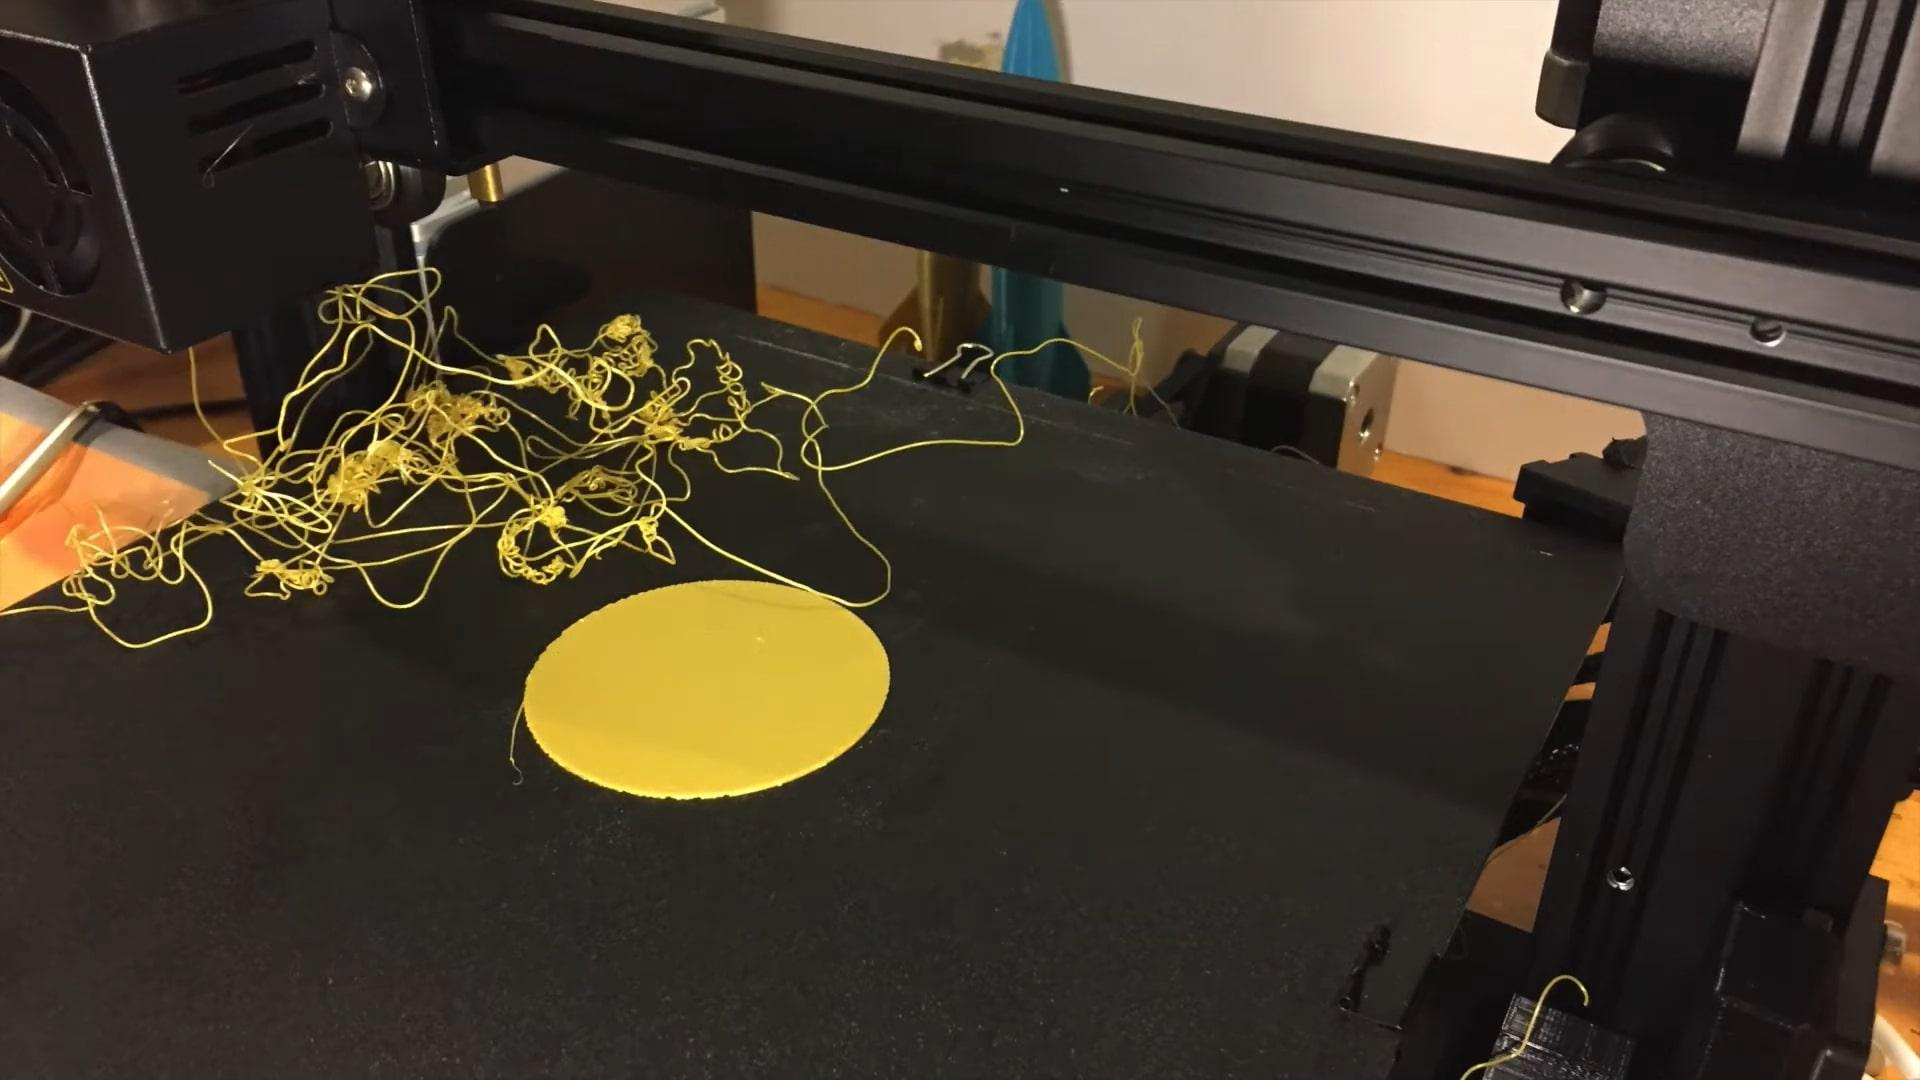Printing-Artifact: (40, 249, 828, 649)
